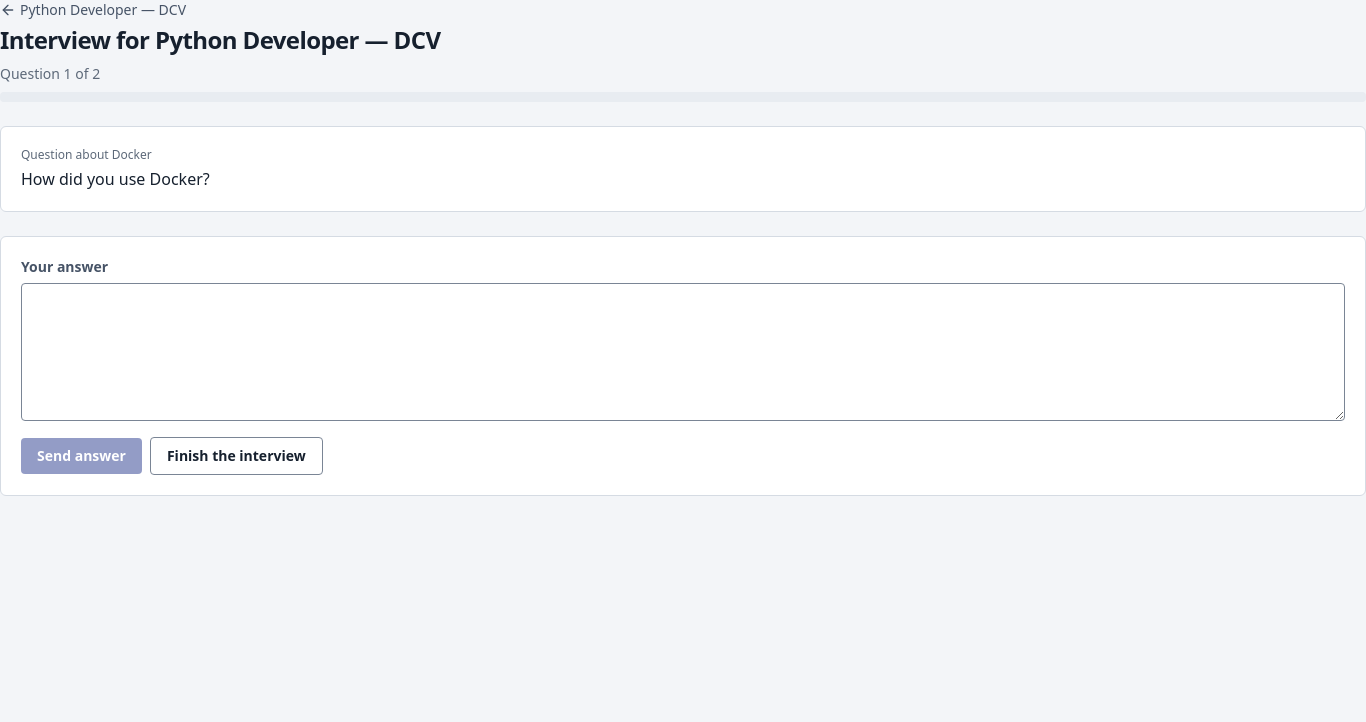
Test: an answer that lost a race shows where the session is now
The width and height of the screenshot is (1366, 722).
Type "I containerised our API." into the text box labelled "Your answer" at [683, 352], box [21,283,1345,421]
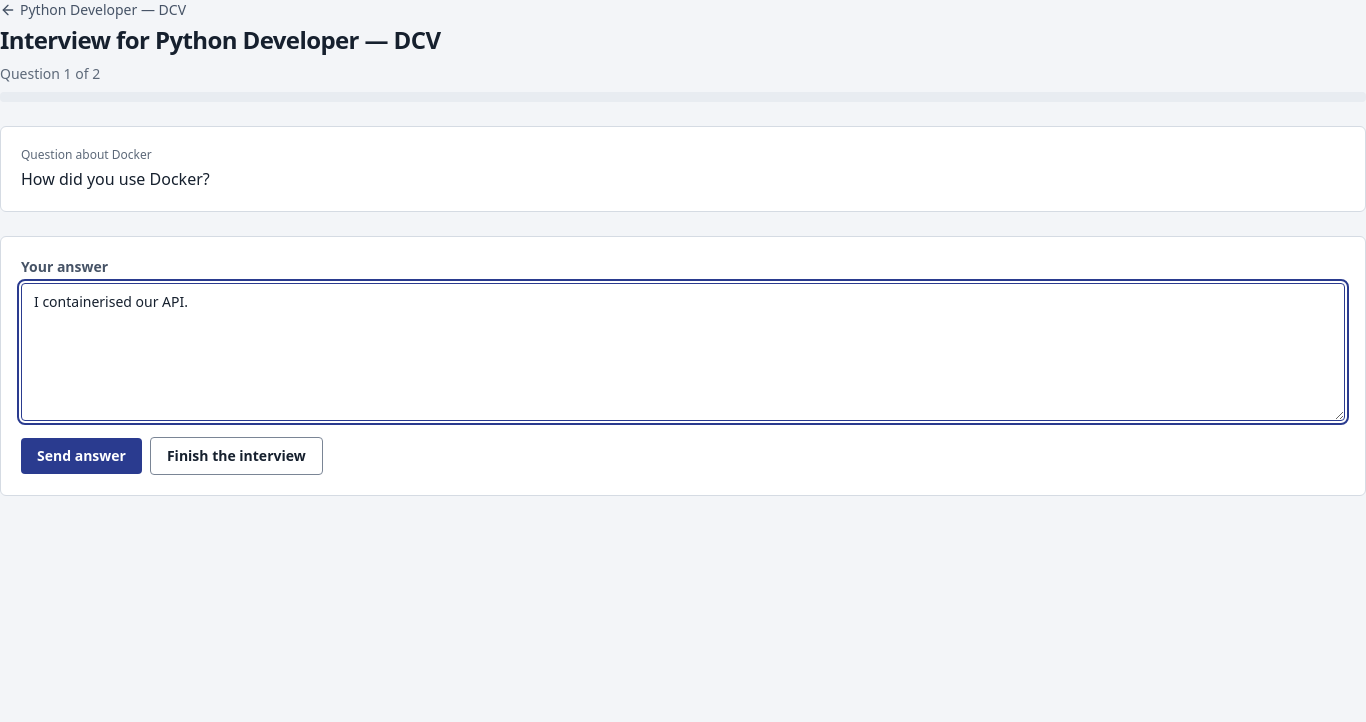
Click the button "Send answer" at [81, 456], box [21,438,142,474]
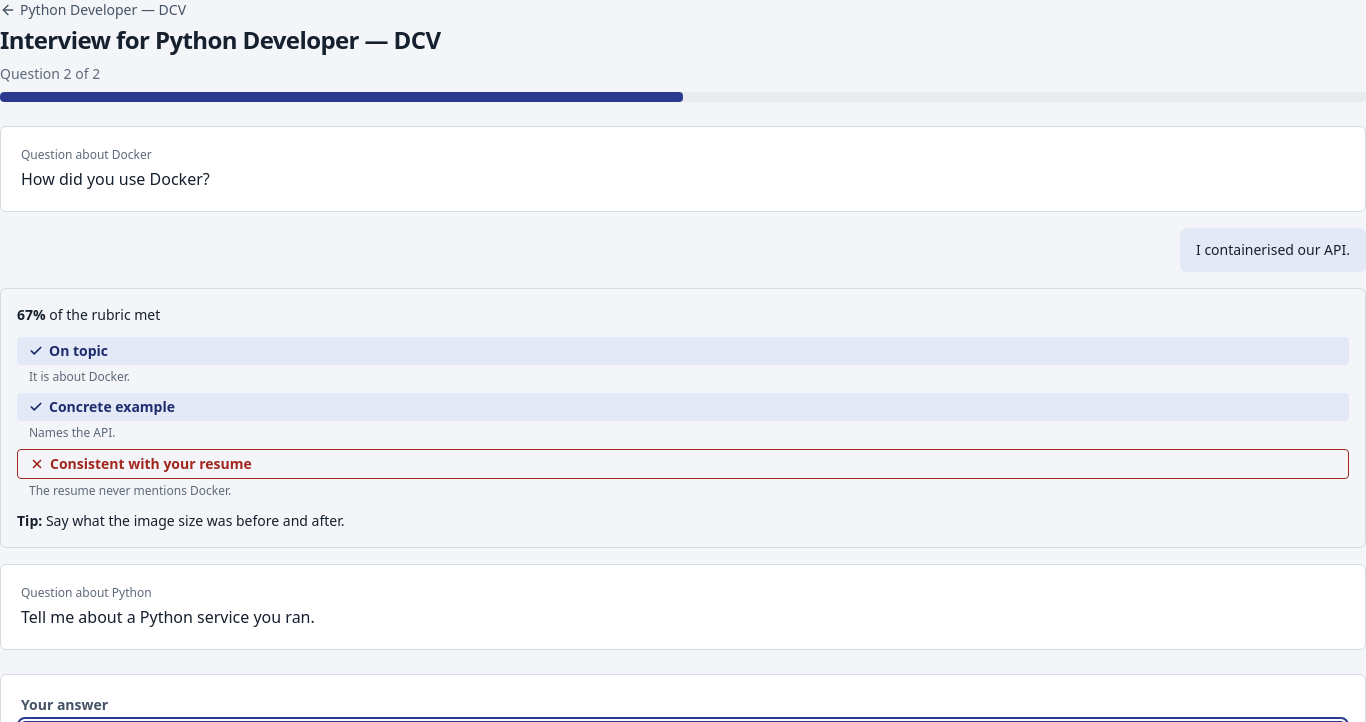
Check: the text "Tell me about a Python service you ran." is shown, box [21,606,315,628]
